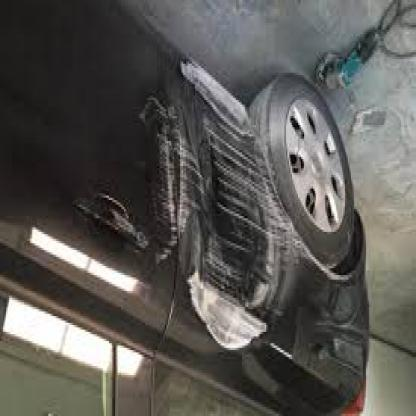dent: (178, 135, 272, 351)
